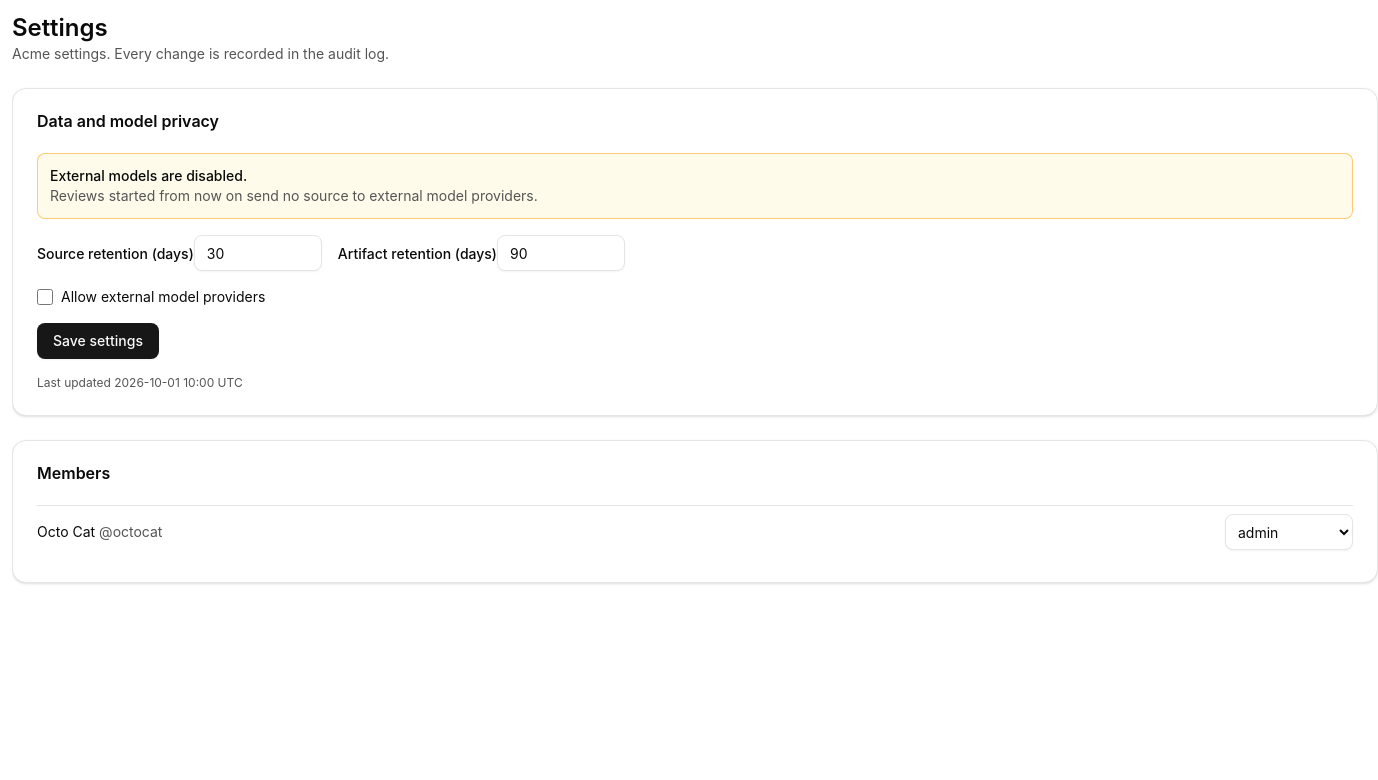
rules, integrations, usage and settings › settings_conflict_409
Replace the text in the field labelled "Source retention (days)" with "14". click: (258, 253)
box: [194, 235, 322, 271]
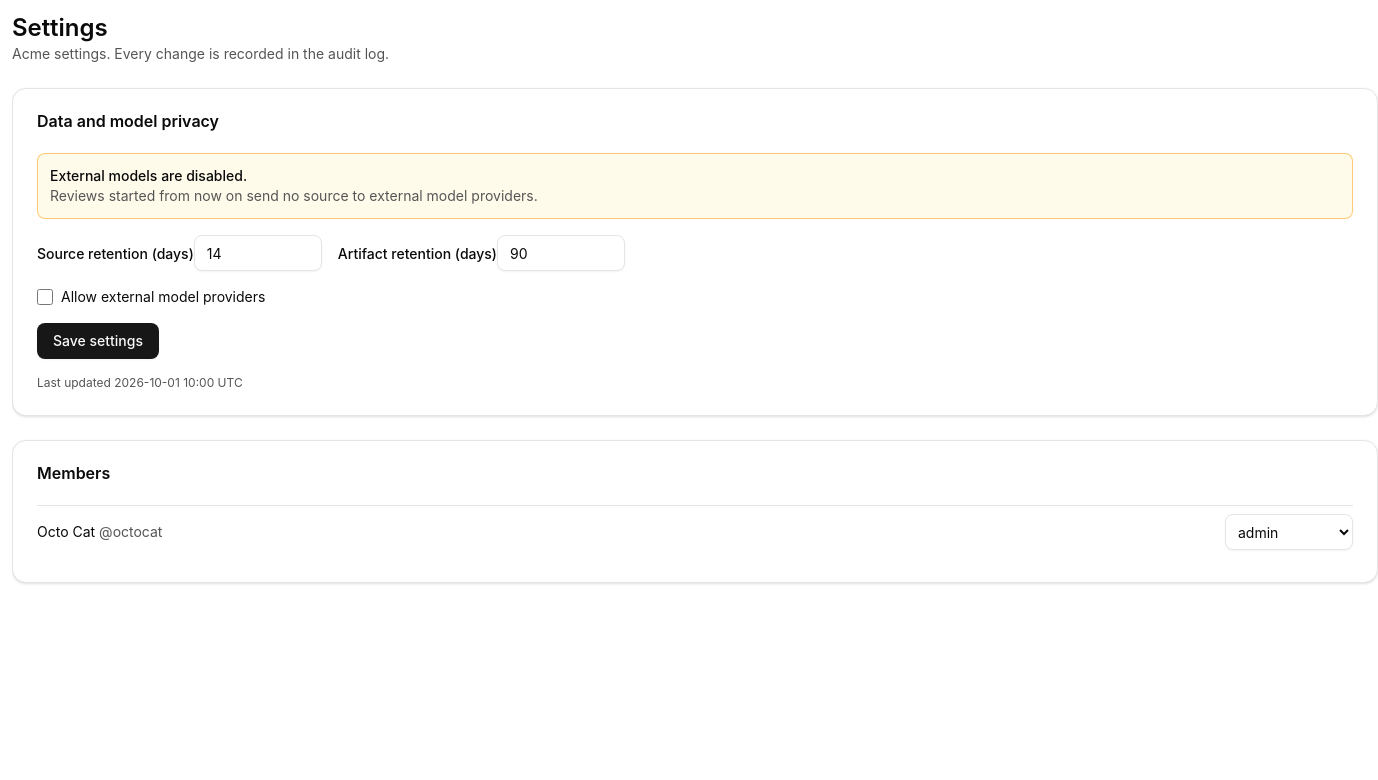
Click the button "Save settings". click: (98, 341)
box: [37, 323, 159, 359]
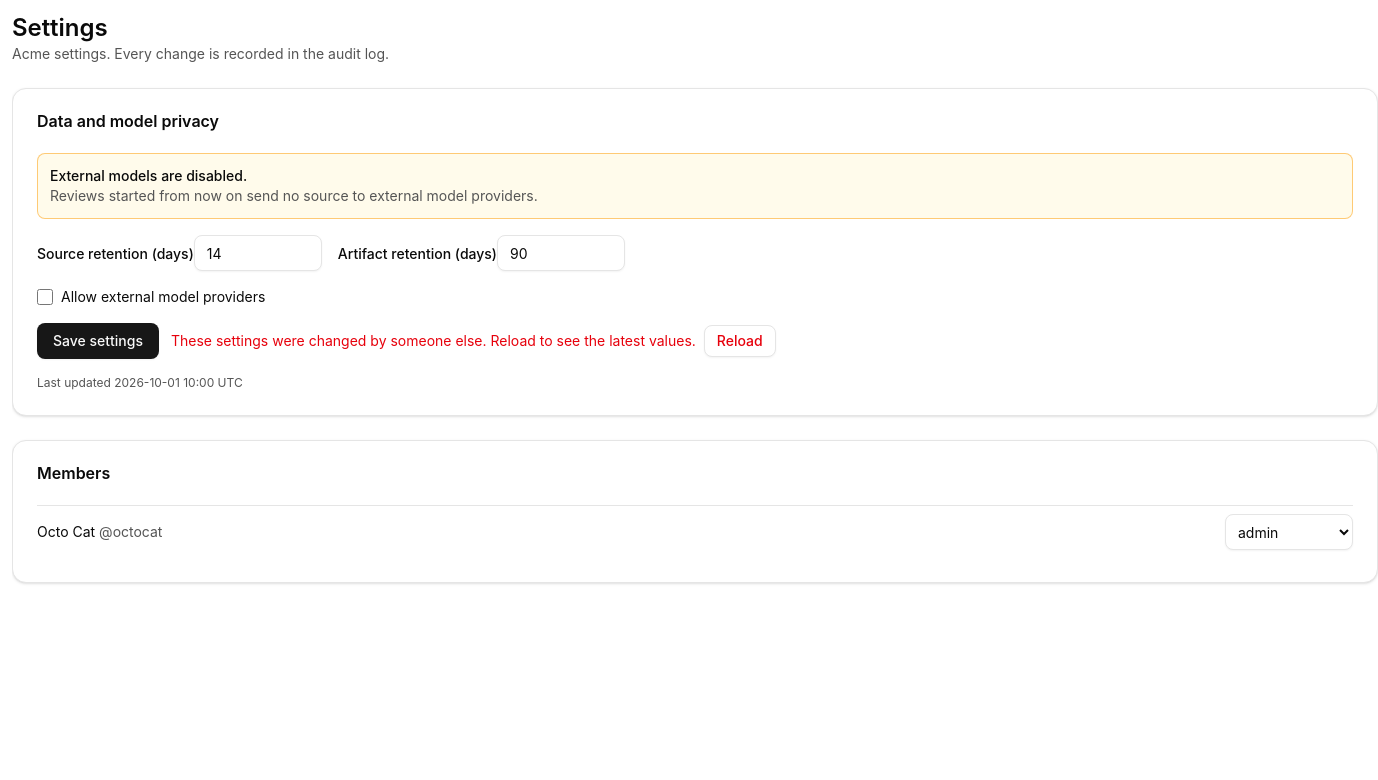
Now the text "These settings were changed by someone else. Reload to see the latest values." is shown, box [171, 332, 696, 349]
Now the button "Reload" is shown, box [704, 325, 776, 357]
